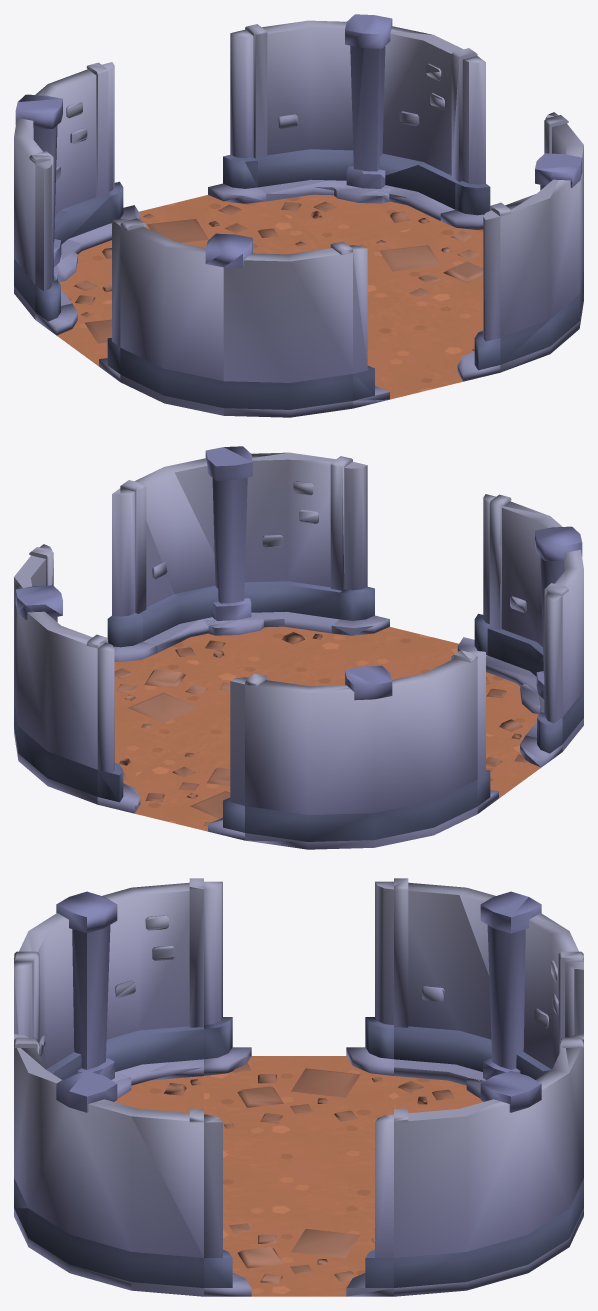
Rendered from room-small.fbx.
3 renders of one model, top to bottom at view 1: azimuth 30°, elevation 25°; view 2: azimuth 150°, elevation 25°; view 3: azimuth 270°, elevation 25°, orthographic. The views are drawn at different scales.
Parts seen in each view (by area): view 1: room-small; view 2: room-small; view 3: room-small.
Boxes of the visible parts, box(x1,y1,x2,y2) form: room-small: box(14, 14, 583, 417); room-small: box(14, 446, 583, 849); room-small: box(14, 878, 583, 1296).
Size of the model in its own units: 1200 by 423 by 1200.
